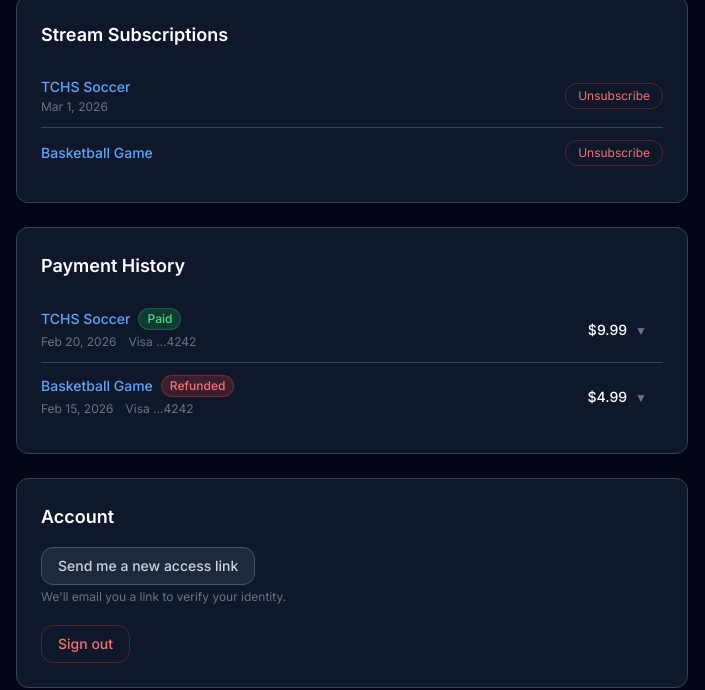
Test case: Account Page › Payment history section › should show refund details in expanded receipt for refunded purchase
(page scrolled)
Click the button with test id "btn-expand-p-002" at (198, 386), box [33,363,655,429]
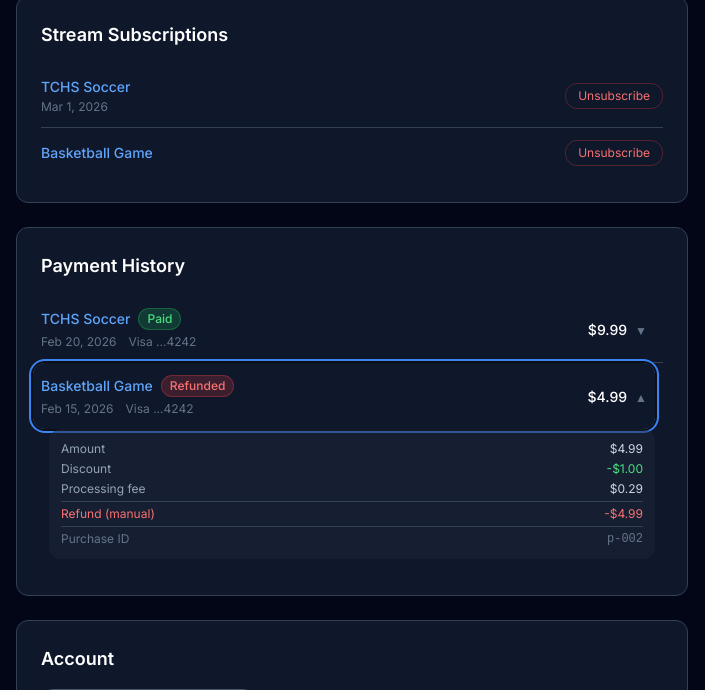
Expected: the element with test id "receipt-p-002" is shown, [41,429,663,571]
Expected: the element with test id "receipt-p-002" shows "Refund", [61,506,109,521]
Expected: the element with test id "receipt-p-002" shows "manual", [109,506,150,521]
